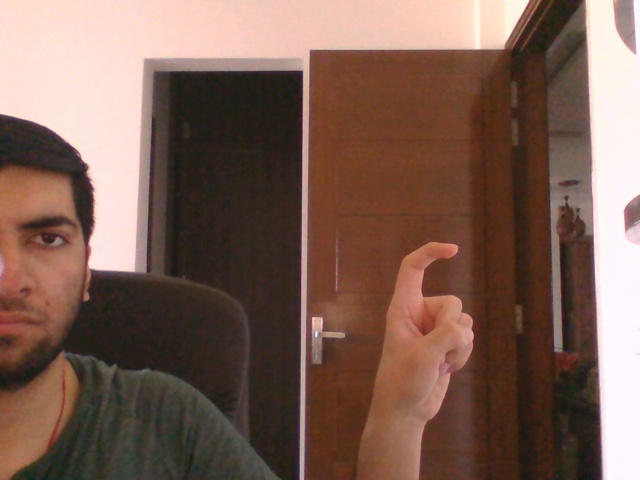LetterX: (370, 234, 477, 430)
